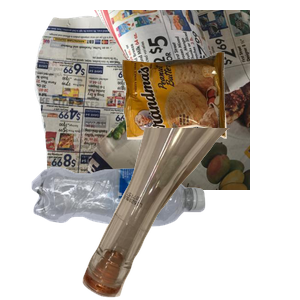glass: (80, 128, 300, 300)
paper: (32, 10, 272, 190)
plastic: (29, 165, 227, 300)
trash: (120, 50, 300, 182)
